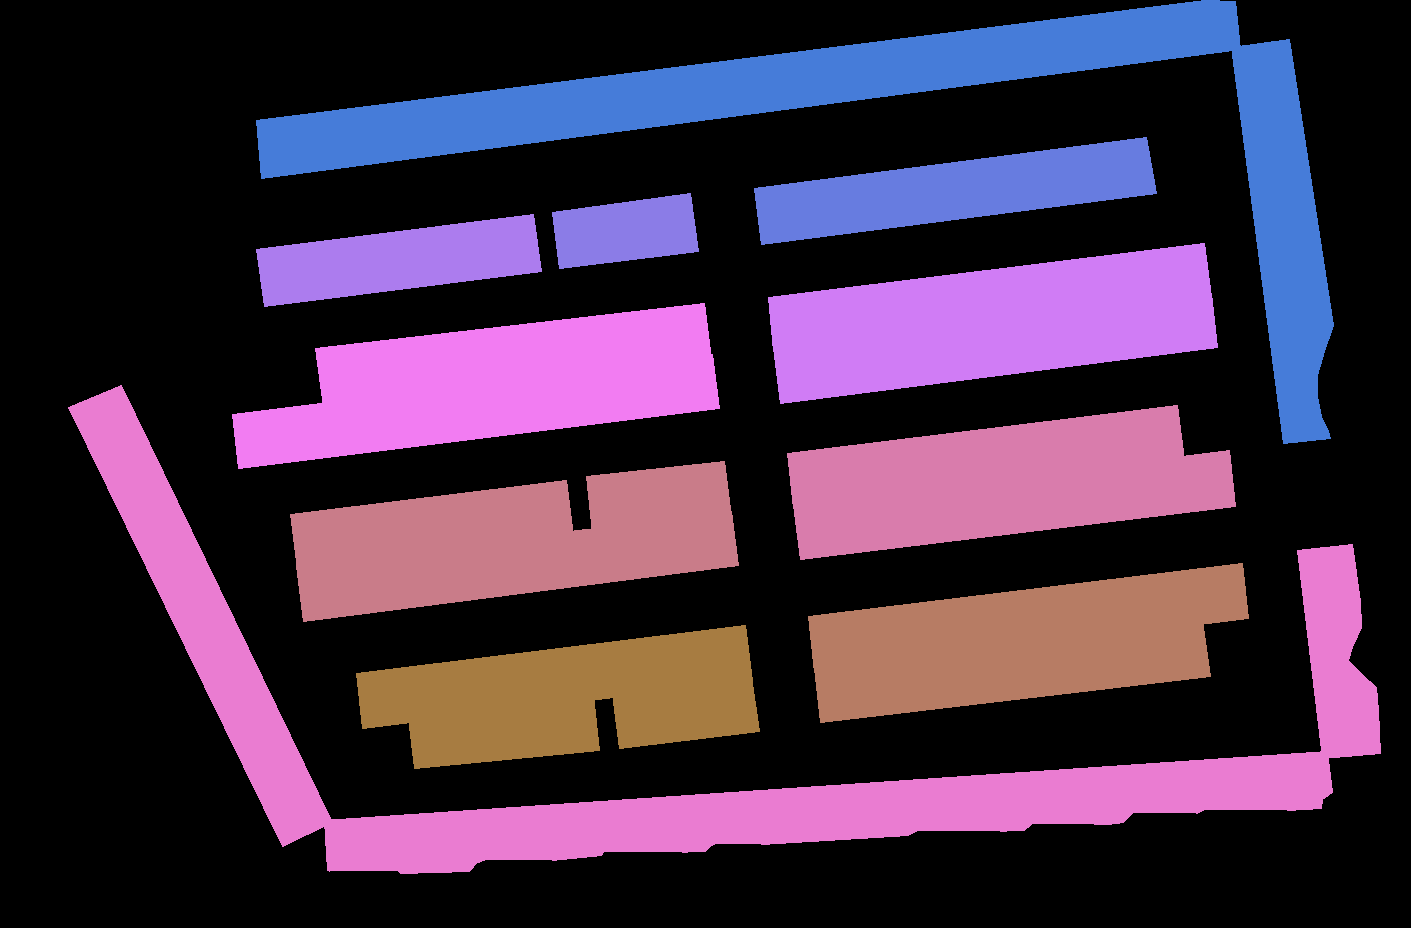parkingspot: (256, 0, 1240, 178), (324, 751, 1332, 873), (68, 385, 332, 846), (232, 354, 719, 468), (296, 511, 738, 621), (773, 293, 1217, 403), (793, 450, 1235, 559), (809, 563, 1248, 672), (768, 243, 1211, 351), (754, 137, 1156, 244), (1231, 39, 1333, 443), (315, 303, 711, 407), (356, 625, 752, 728), (787, 405, 1184, 508), (814, 620, 1210, 722), (256, 214, 541, 306), (290, 480, 574, 569), (1297, 544, 1380, 758), (408, 695, 599, 769), (552, 193, 698, 268), (586, 461, 731, 533), (612, 676, 759, 748)
